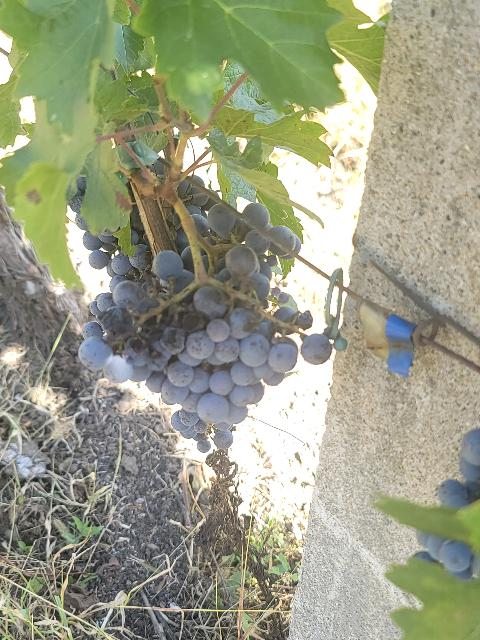grapes: (79, 255, 299, 451), (206, 202, 300, 301)
